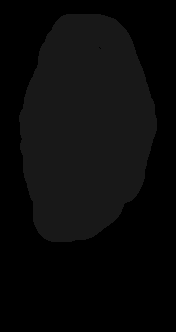fp: (12, 2, 160, 253)
